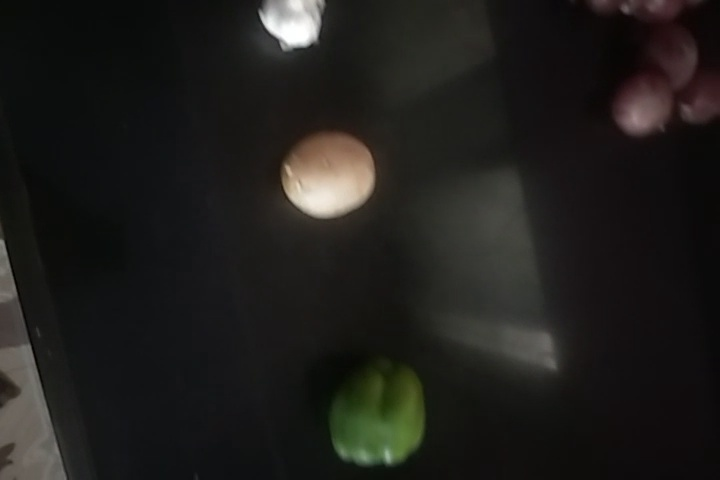capsicum: (324, 358, 440, 471)
garlic: (254, 1, 336, 59)
onion: (617, 73, 675, 142), (647, 27, 703, 89), (679, 74, 720, 127)
potato: (283, 142, 373, 218)
